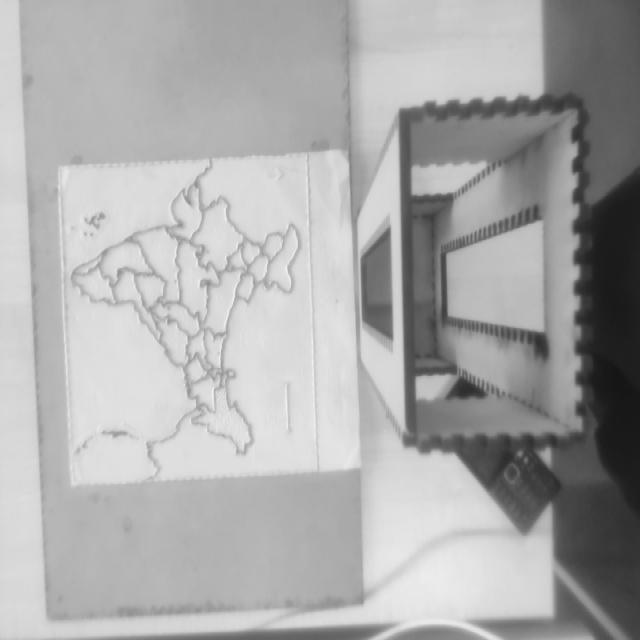map: (59, 153, 318, 485)
